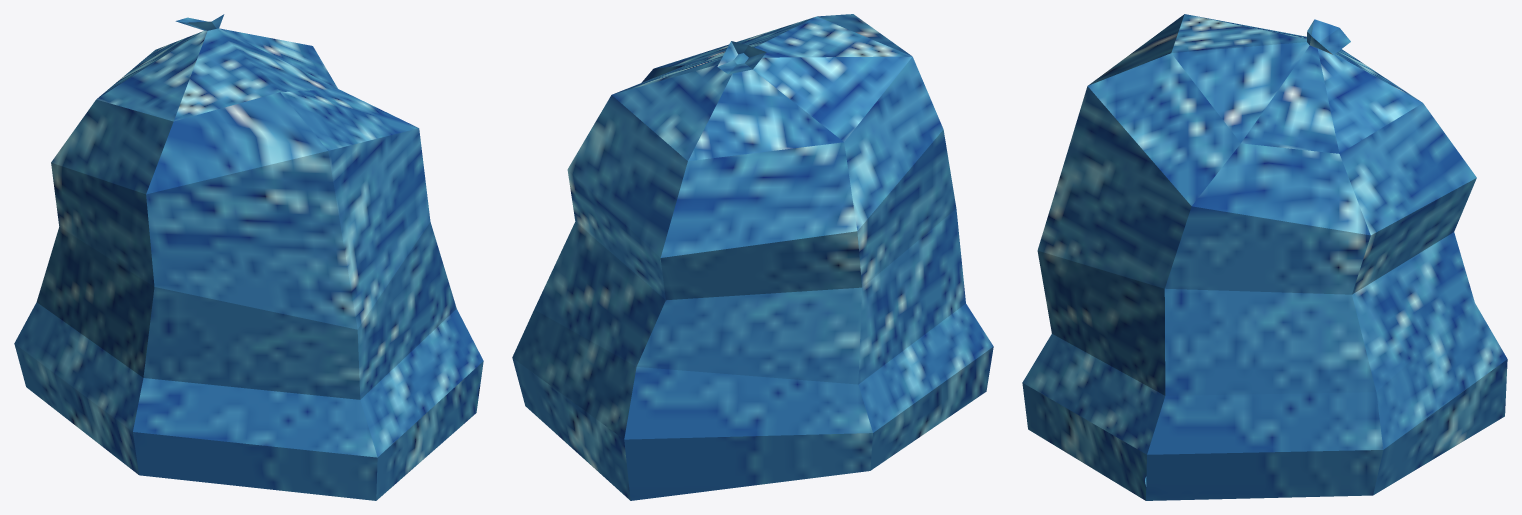
File: basura2.fbx
3 views of the same model, side by side, from view 1: azimuth 30°, elevation 25°; view 2: azimuth 150°, elevation 25°; view 3: azimuth 270°, elevation 25° (orthographic). The views are drawn at different scales.
Parts seen in each view (by area): view 1: trashbag_1_blue; view 2: trashbag_1_blue; view 3: trashbag_1_blue.
Boxes of the visible parts, bbox=[...] form: trashbag_1_blue: bbox=[14, 14, 483, 500]; trashbag_1_blue: bbox=[512, 14, 993, 500]; trashbag_1_blue: bbox=[1022, 14, 1507, 500].
Bounding box in the file's own units: 77.09 × 80.94 × 91.71.
